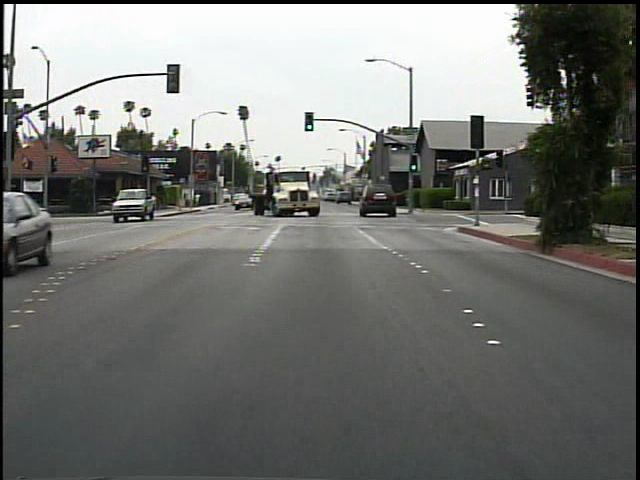person: (194, 189, 205, 208)
